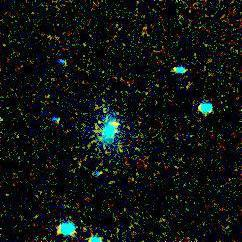star: (100, 109, 130, 139)
